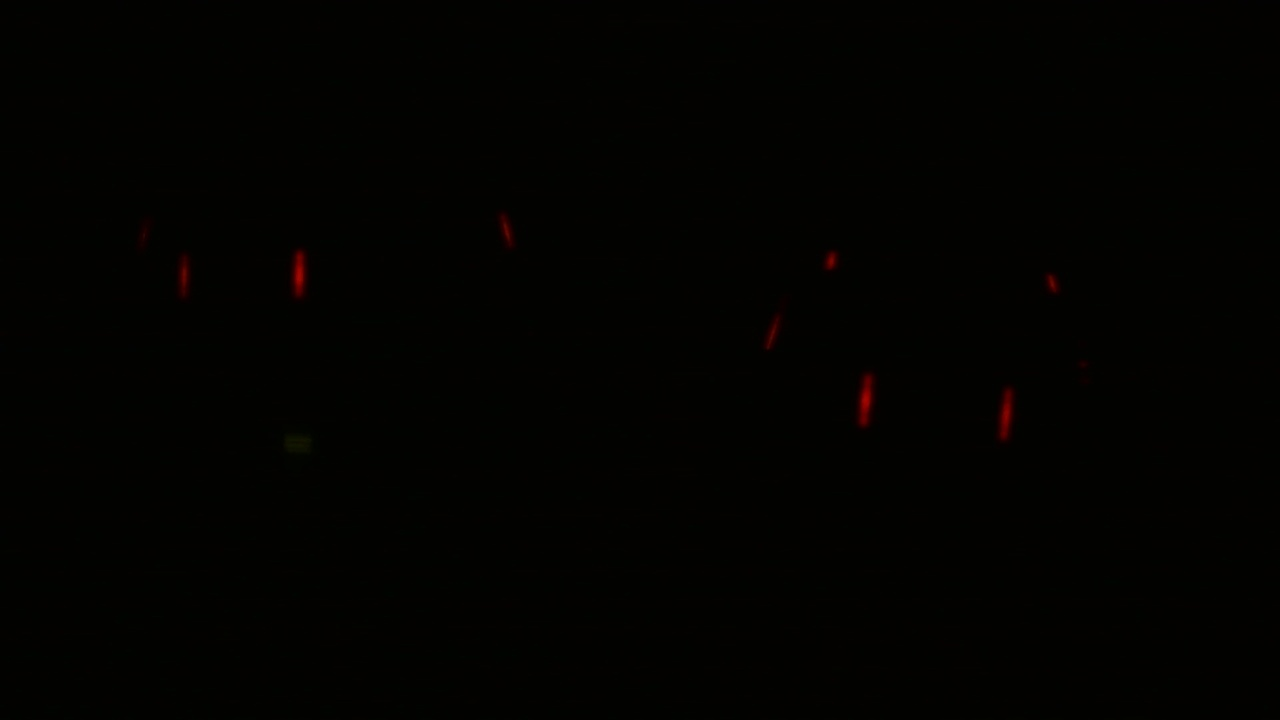pair1: (857, 364, 1016, 453), (178, 246, 309, 304)
